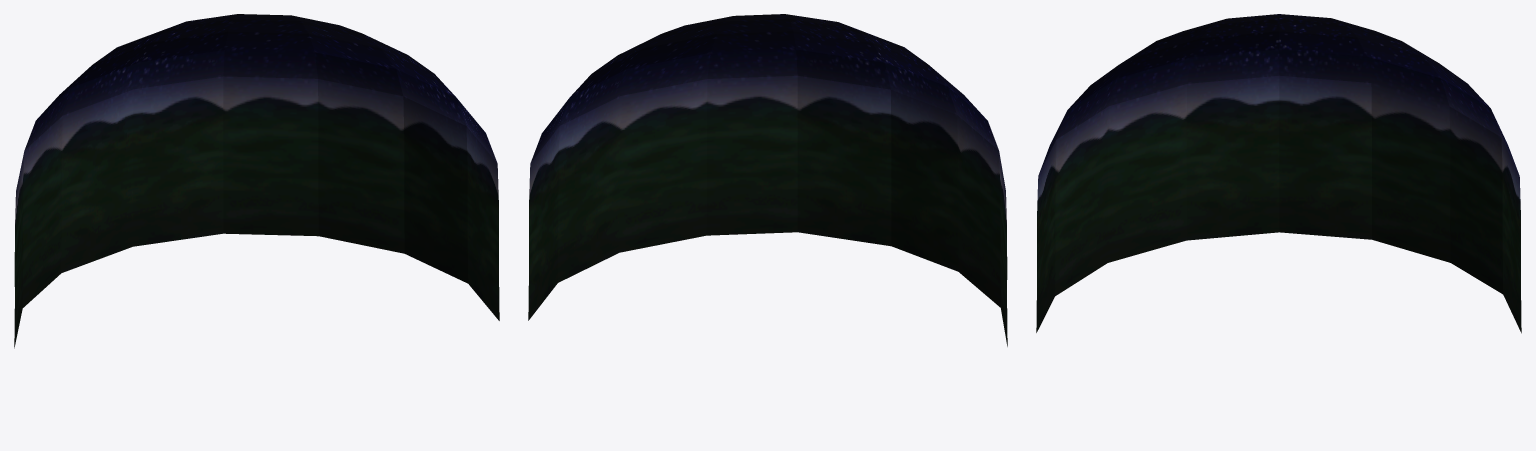
Rendered from Track_06_sky.glb.
3 renders of one model, left to right at view 1: azimuth 30°, elevation 25°; view 2: azimuth 150°, elevation 25°; view 3: azimuth 270°, elevation 25°, orthographic.
Parts seen in each view (by area): view 1: Mesh_0; view 2: Mesh_0; view 3: Mesh_0.
Boxes of the visible parts, x1,y1,x2,y2 form: Mesh_0: (14,14,499,348); Mesh_0: (528,14,1007,346); Mesh_0: (1036,14,1521,333).
Size of the model in its own units: 366 by 243 by 366.
1 material, 1 textured.
